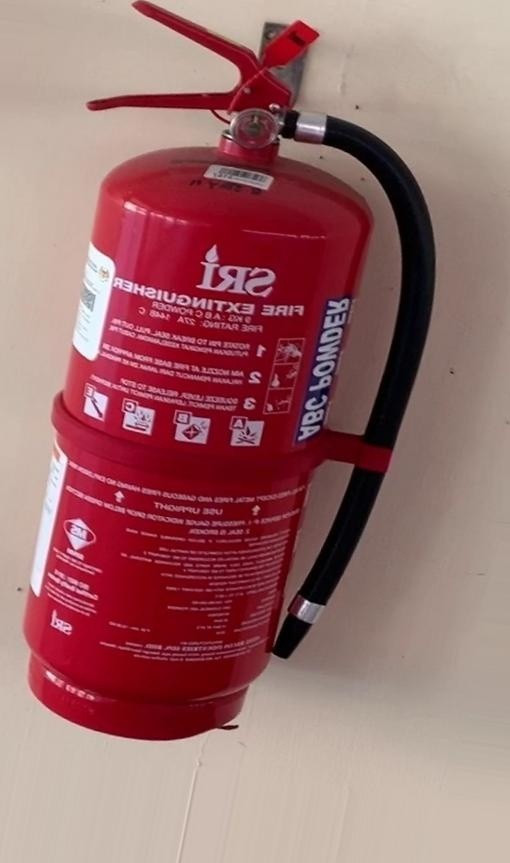fire_extinguisher: (22, 1, 438, 742)
